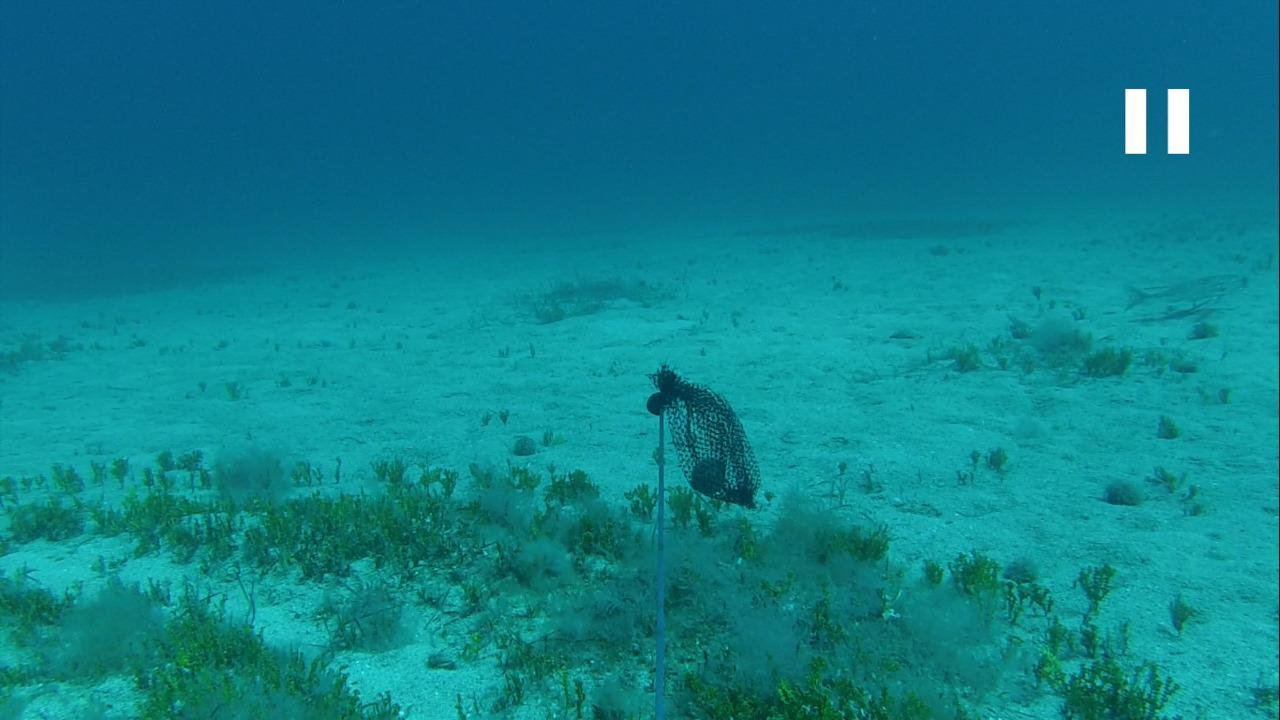dactylopterus: (1111, 267, 1252, 314)
